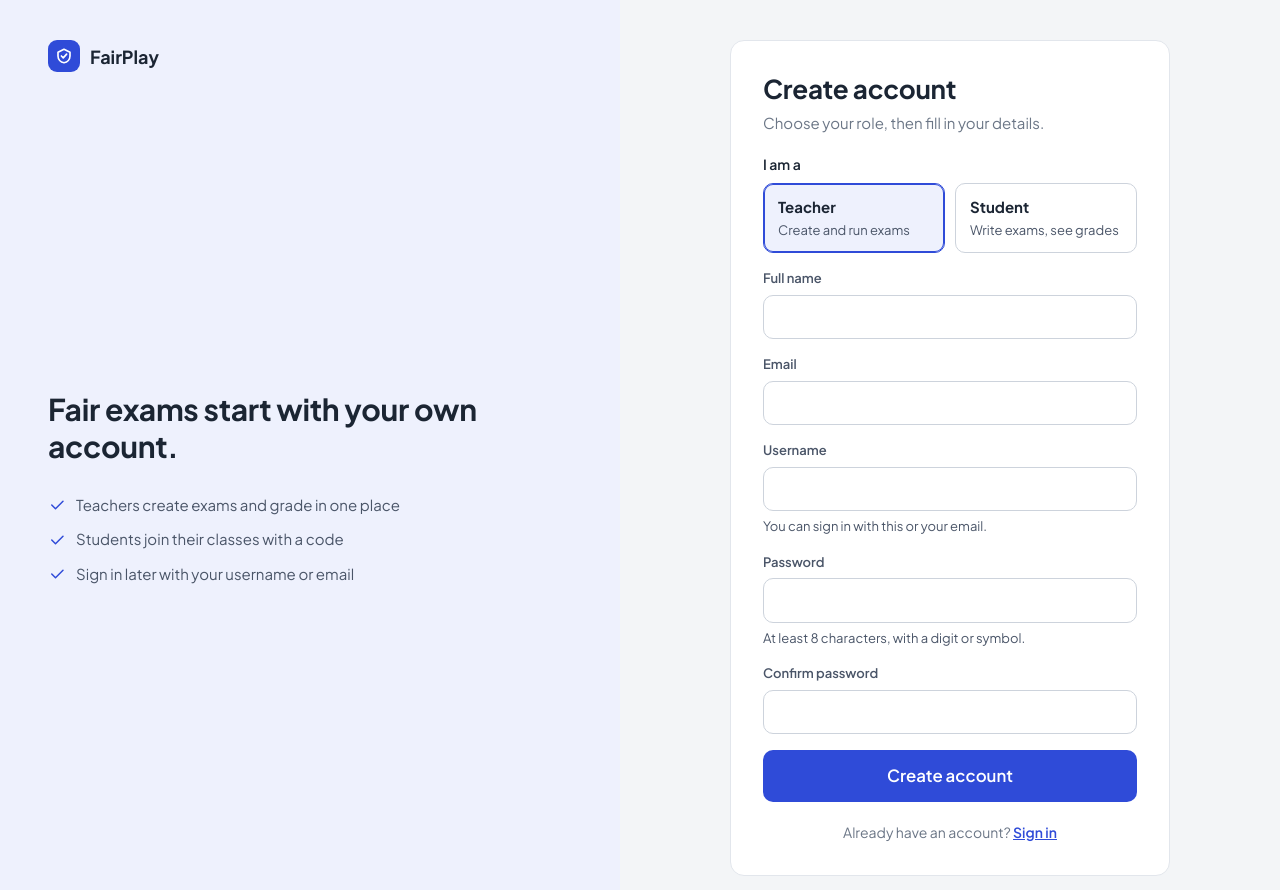
Test: RegisterPage › shows server errors such as a taken username
In the field labelled "Full name": (950,317) [763,294,1137,339], type "Dana Teach"
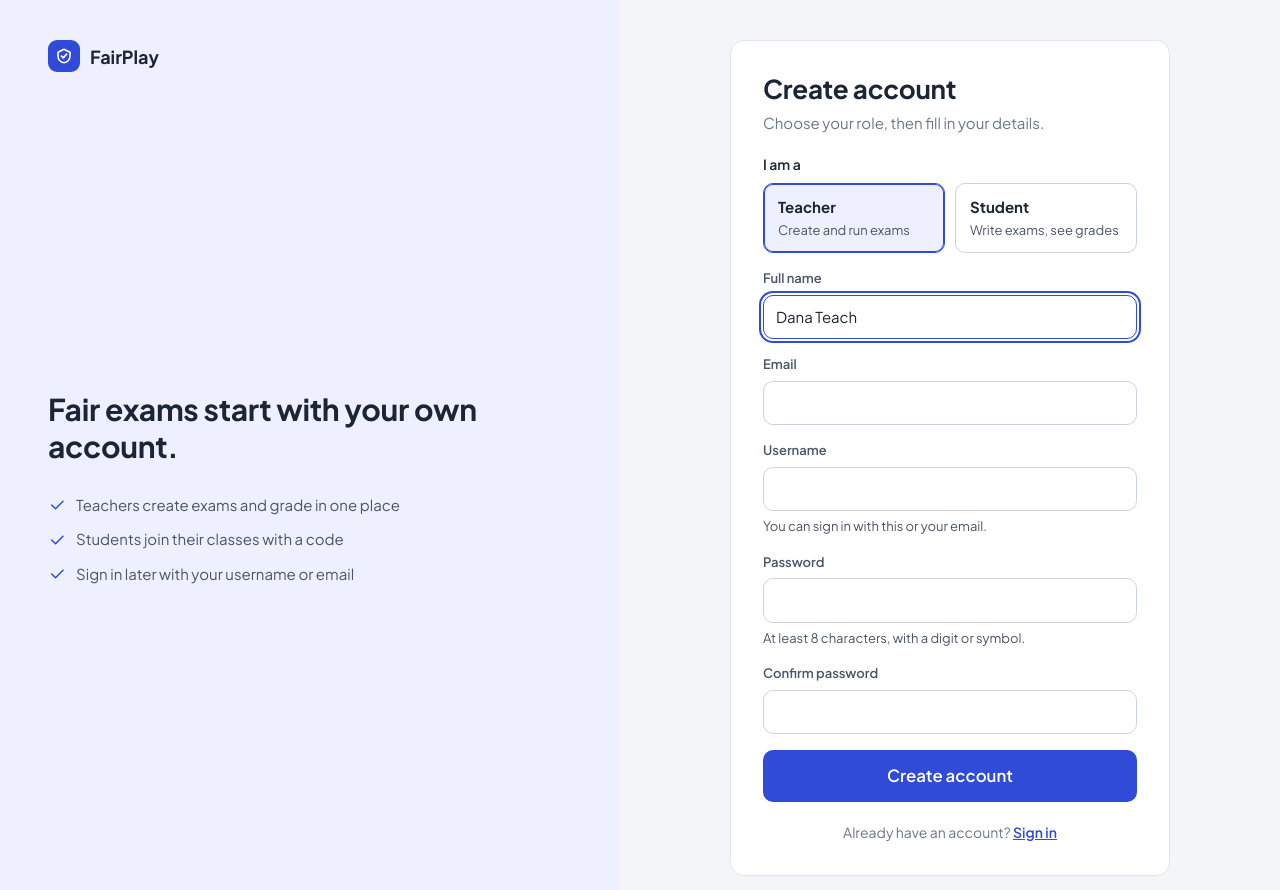
In the field labelled "Email": (950,403) [763,380,1137,425], type "dana@uni.edu"
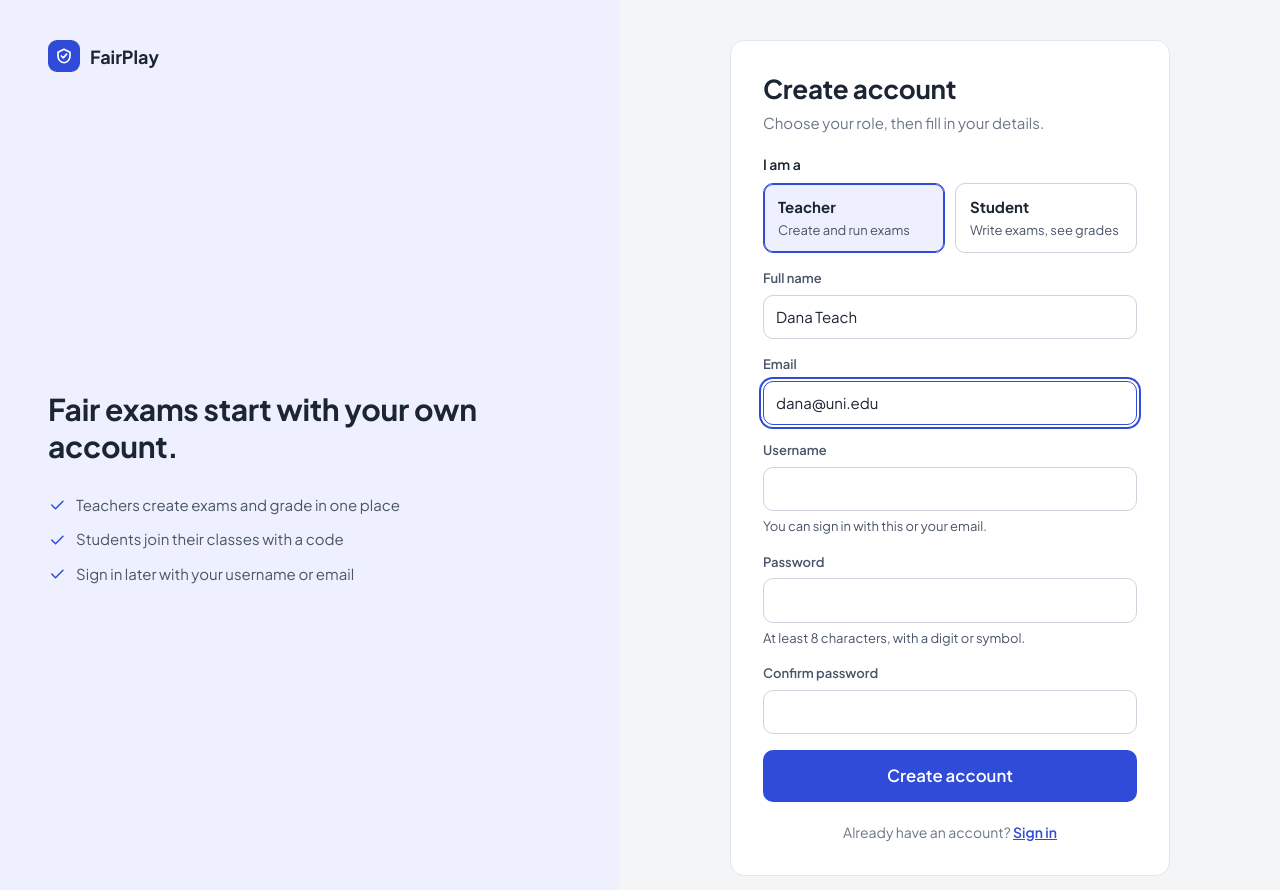
In the field labelled "Username": (950,489) [763,466,1137,511], type "dana"
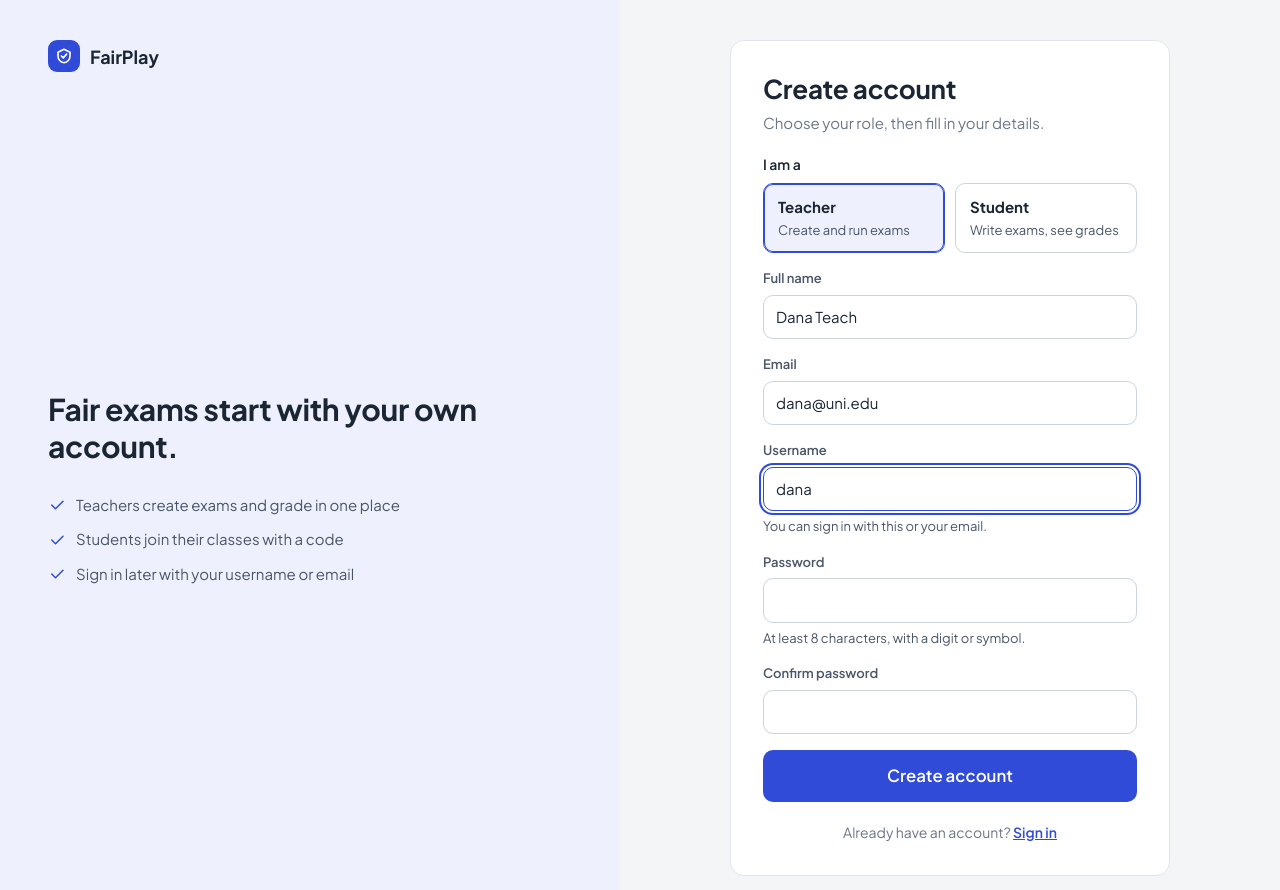
In the password field labelled "Password": (950,600) [763,578,1137,622], type "s3cret-pass"
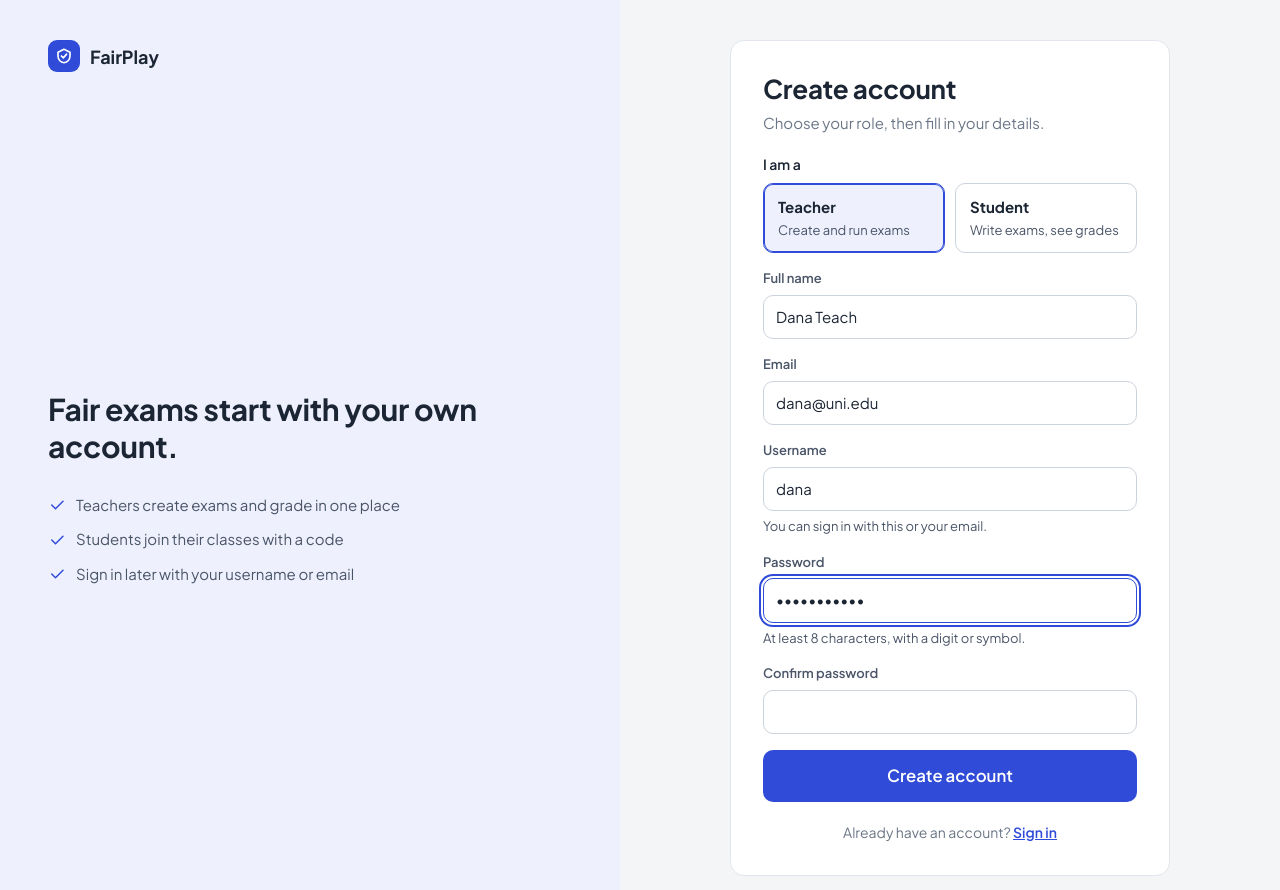
In the password field labelled "Confirm password": (950,712) [763,690,1137,734], type "s3cret-pass"
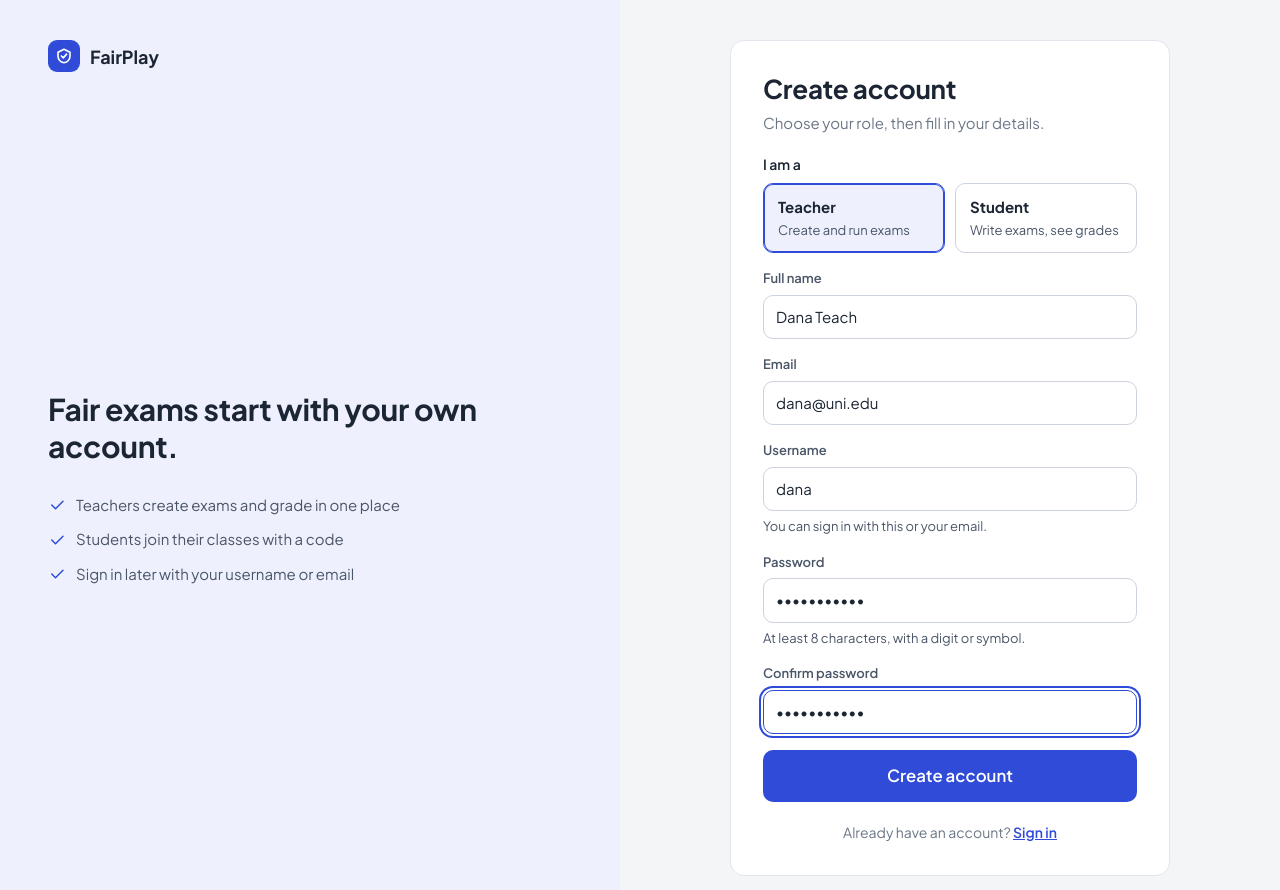
Click the button "Create account": (950,776) [763,750,1137,802]
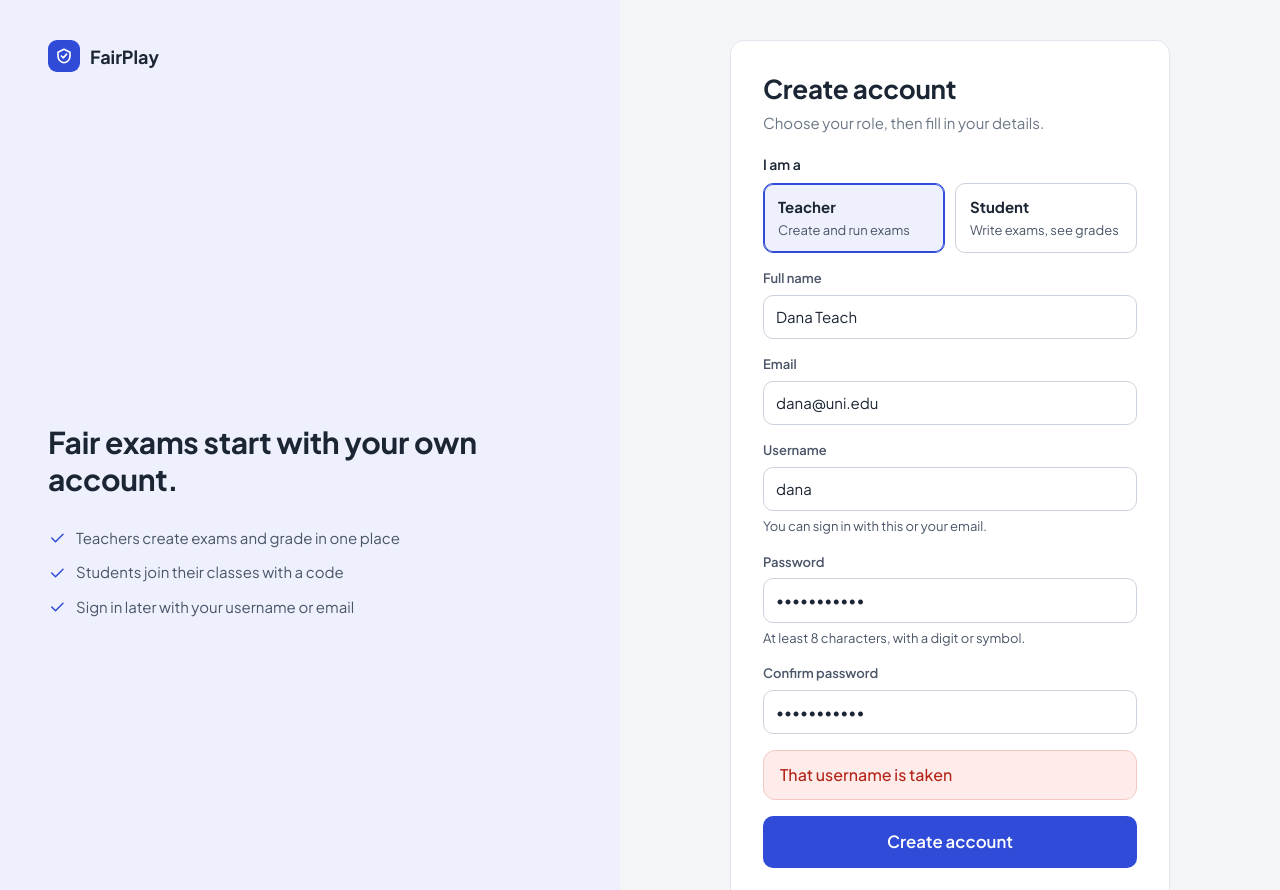
Now the message reads "That username is taken", box [780,764,952,785]
